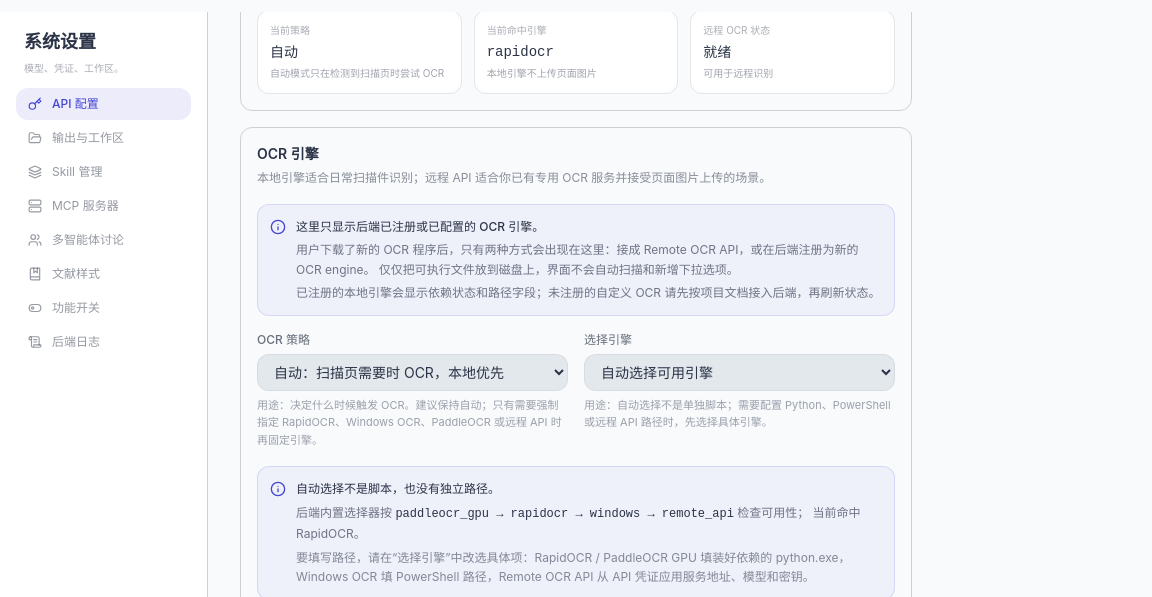
Test: Settings navigation › keeps an applied OCR credential reference in health checks without exposing its API key
This screenshot has width=1152, height=597.
(page scrolled)
Select "固定使用下方选择的引擎" in the dropdown labelled "OCR 策略" at (412, 372), box [257,354,568,390]
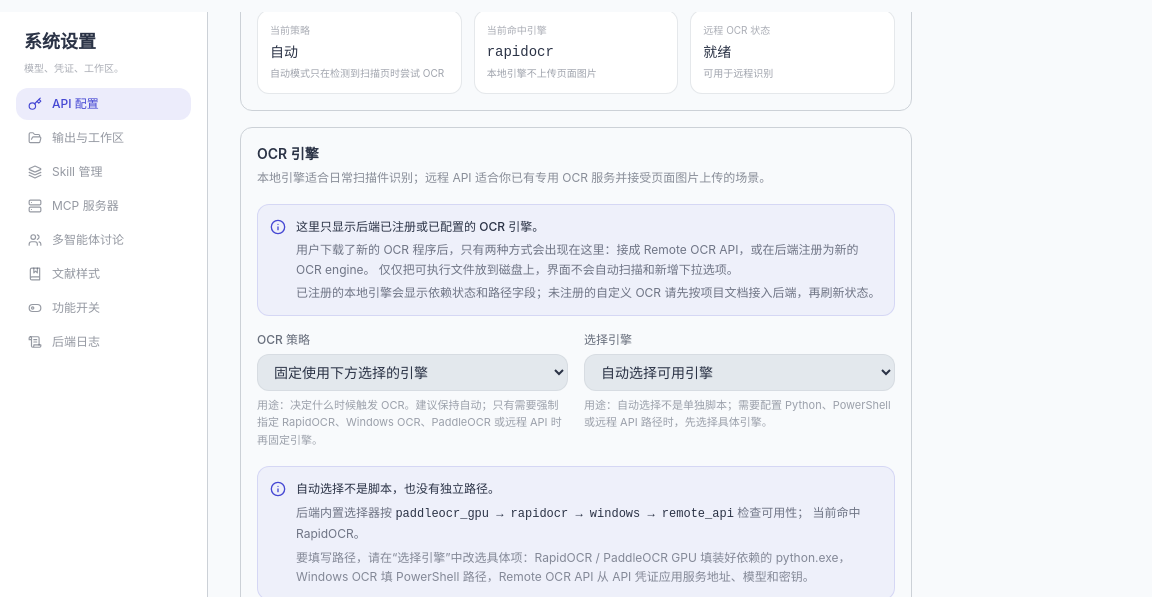
Select "Remote OCR API · 就绪" in the dropdown labelled "选择引擎" at (740, 372), box [584,354,895,390]
(page scrolled)
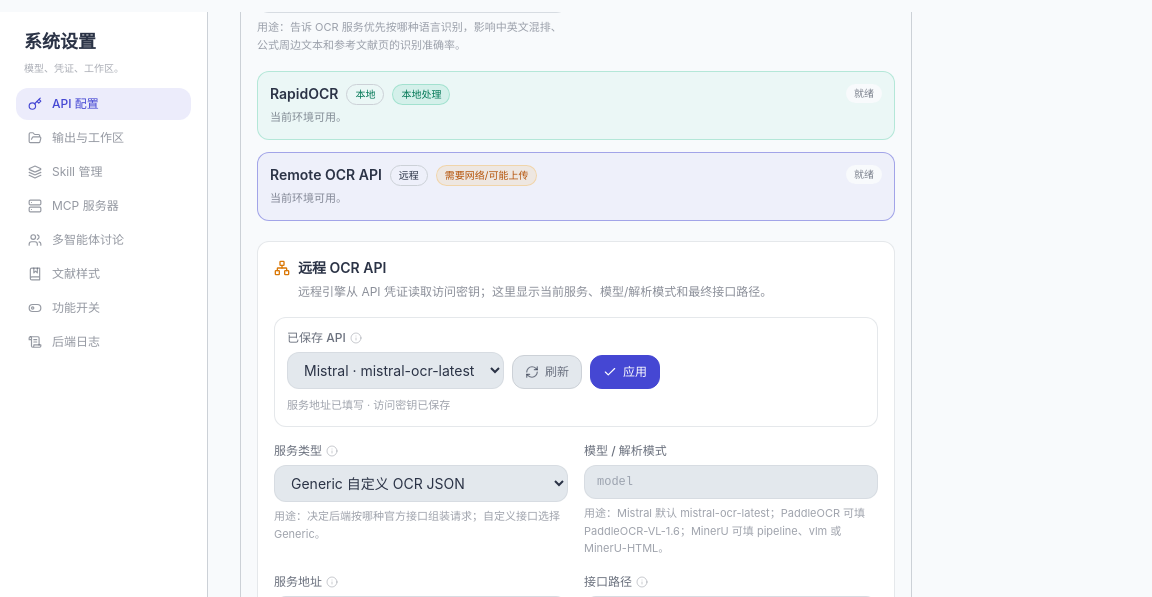
Check: the dropdown labelled "已保存 API" shows "Mistral · mistral-ocr-latest", box [287,352,504,389]
Click the button "应用" at (625, 372), box [590,355,660,389]
(page scrolled)
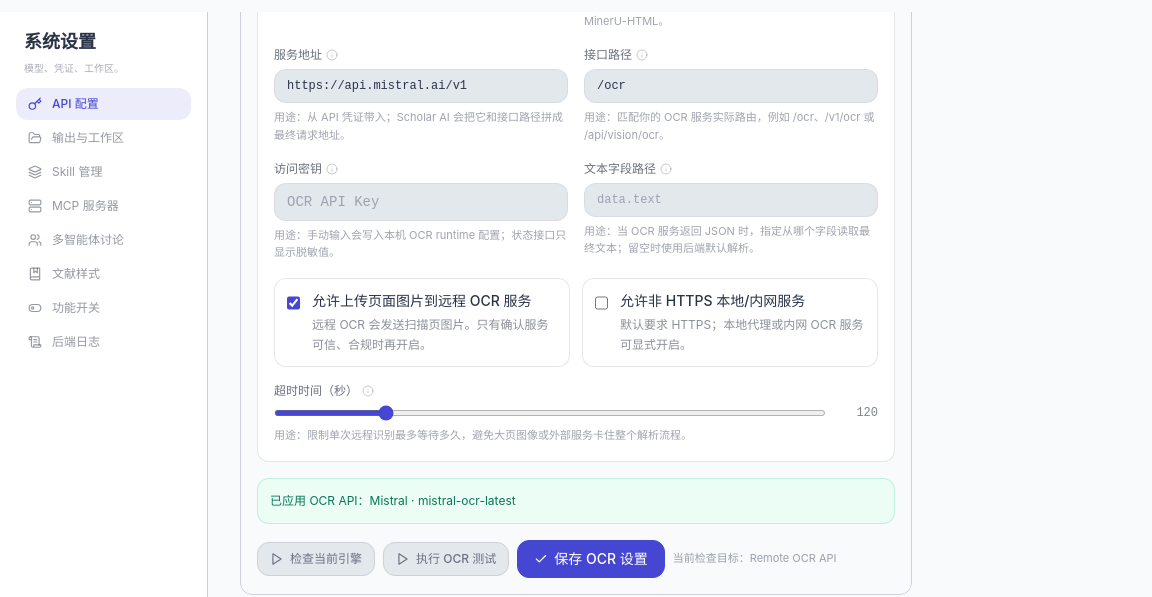
Check: the button "检查当前引擎" is enabled
Click the button "检查当前引擎" at (316, 559), box [257,542,375,576]
(page scrolled)
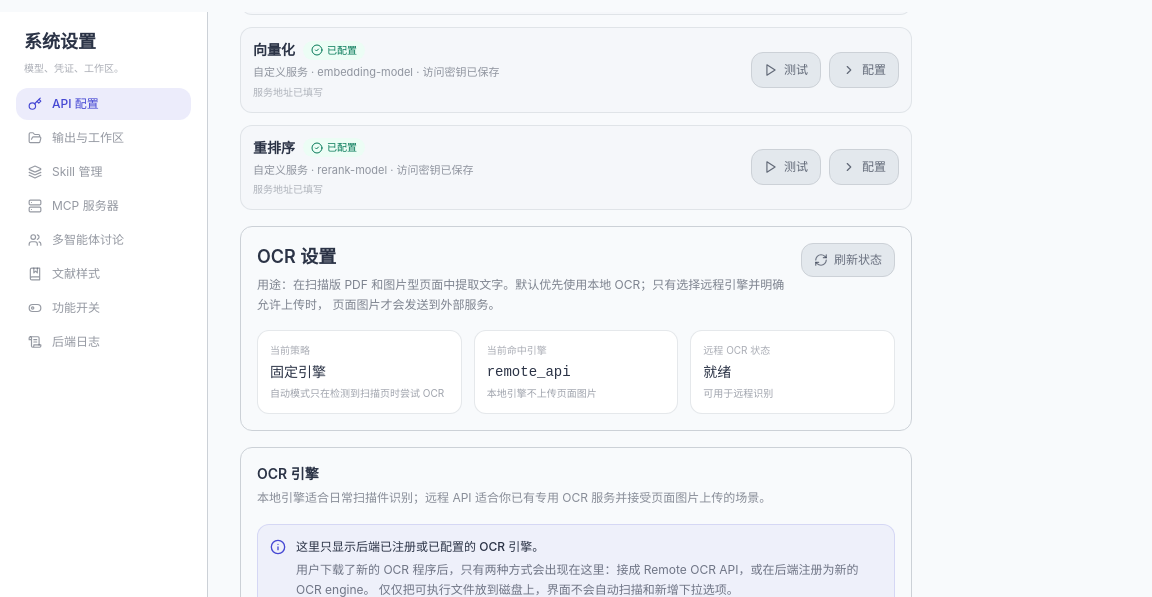
Check: the text "remote_api" is shown, box [487,364,571,380]
